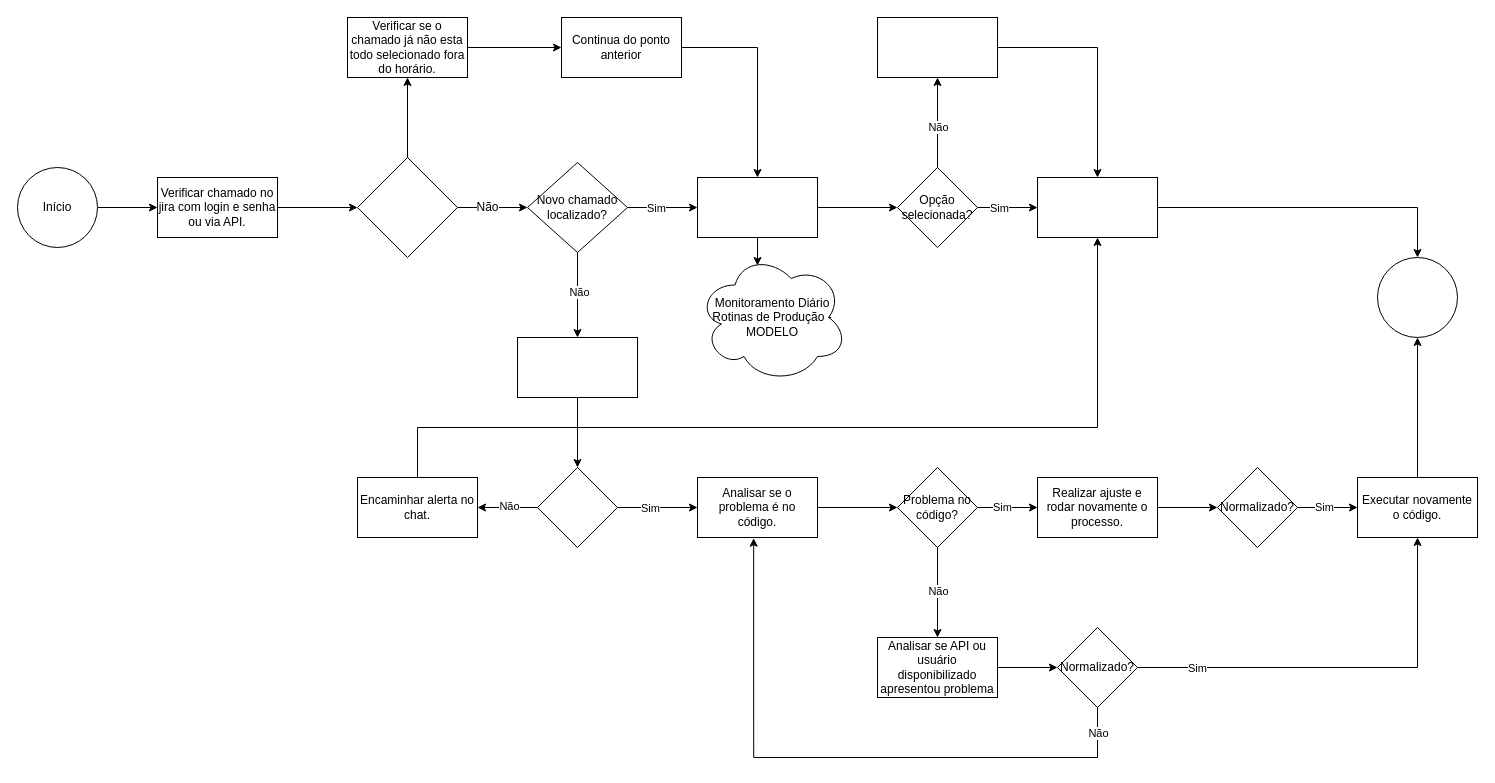
The diagram is 1495 pixels wide and 783 high, and some of its shapes have lost their labels. Here are the shapes that lost their labels. From the top down, the centre of each, then its label:
At point 937,47: "Encaminhar alerta no grupo 12x36".
At point 407,207: "Chamado ou alerta em andamento?".
At point 757,207: "Verificar se o chamado foi feito após 30min de sla do horário padrão.".
At point 1097,207: "Programa executará novamente na próxima janela de horário.".
At point 1417,297: "Fim".
At point 577,367: "Encaminhar alerta no chat para o problema ser verificado.".
At point 577,507: "Chamado existe?".
